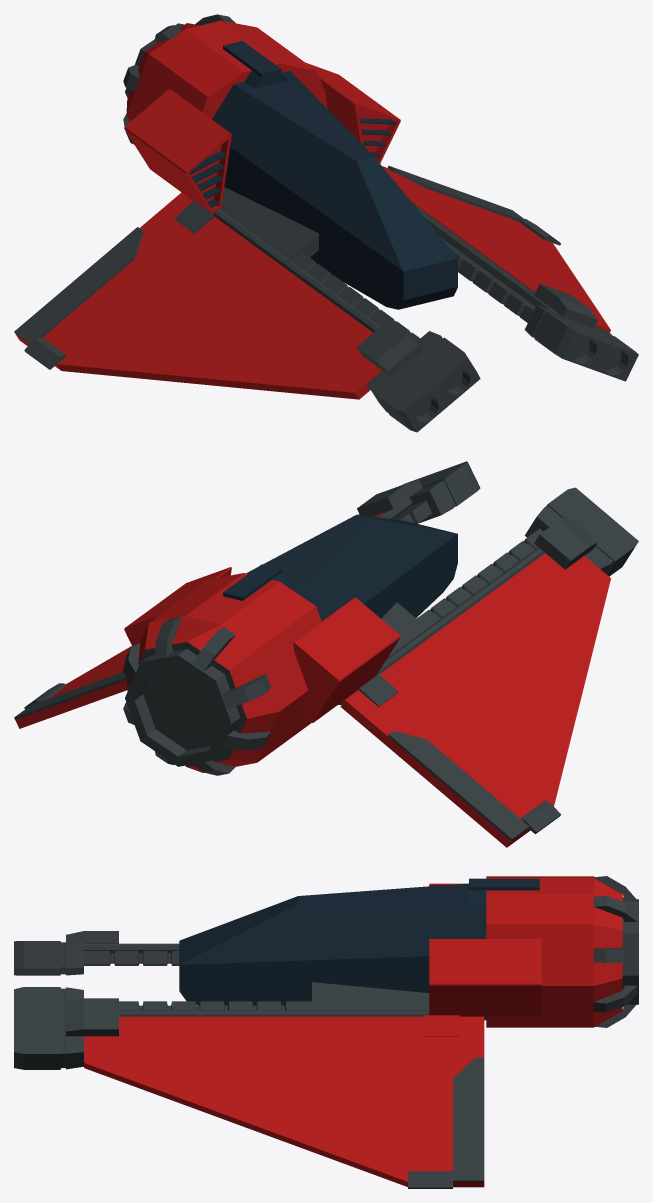
The model's file is SpaceShip2.fbx.
3 views of the same model, one above another, from view 1: azimuth 30°, elevation 25°; view 2: azimuth 150°, elevation 25°; view 3: azimuth 270°, elevation 25° (orthographic). The views are drawn at different scales.
Parts seen in each view (by area): view 1: SpaceShip_3.001; view 2: SpaceShip_3.001; view 3: SpaceShip_3.001.
Part boxes in pixels (x1,y1,x2,y2): SpaceShip_3.001: [14, 14, 638, 432]; SpaceShip_3.001: [14, 461, 638, 847]; SpaceShip_3.001: [14, 876, 638, 1188].
Bounding box in the file's own units: 5.33 × 2.14 × 6.19.
